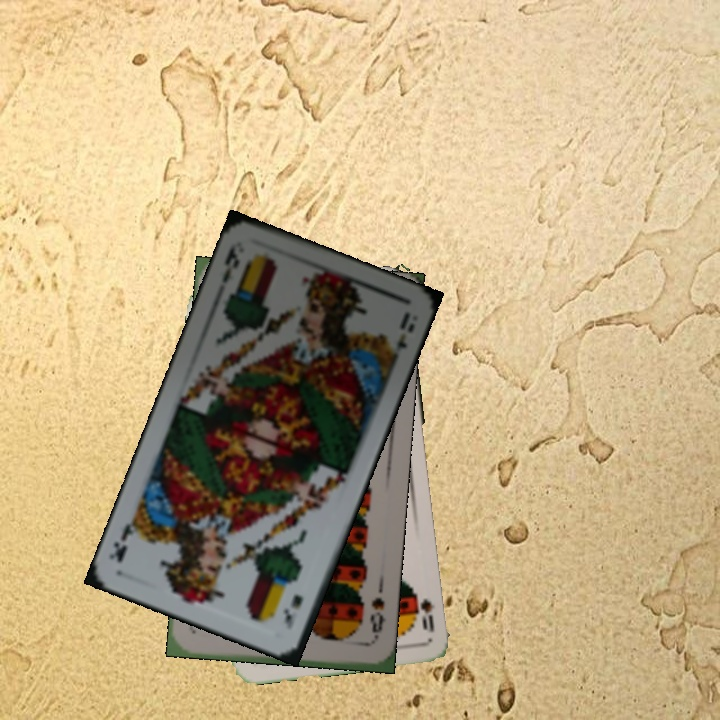EK: (280, 590, 306, 632), (218, 242, 242, 286)
S8: (361, 593, 387, 645)
SO: (412, 589, 438, 635)
